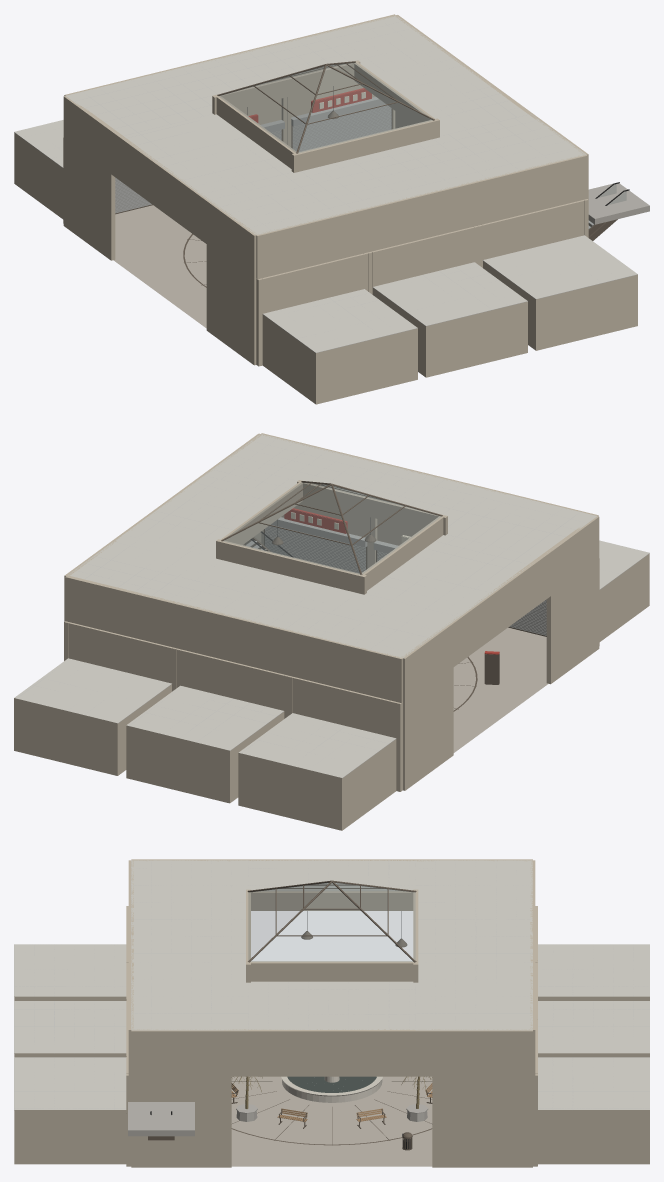
The model's file is fountain_court.glb.
3 views of the same model, one above another, from view 1: azimuth 30°, elevation 25°; view 2: azimuth 150°, elevation 25°; view 3: azimuth 270°, elevation 25° (orthographic). The views are drawn at different scales.
Visible parts, largest first — view 1: fountain_court; view 2: fountain_court; view 3: fountain_court.
Part boxes in pixels (bbox=[...]): fountain_court: bbox=[14, 14, 649, 404]; fountain_court: bbox=[14, 433, 649, 830]; fountain_court: bbox=[14, 859, 649, 1167].
Size of what is drawn, in the model's own units: 28.65 by 13.85 by 38.01.
